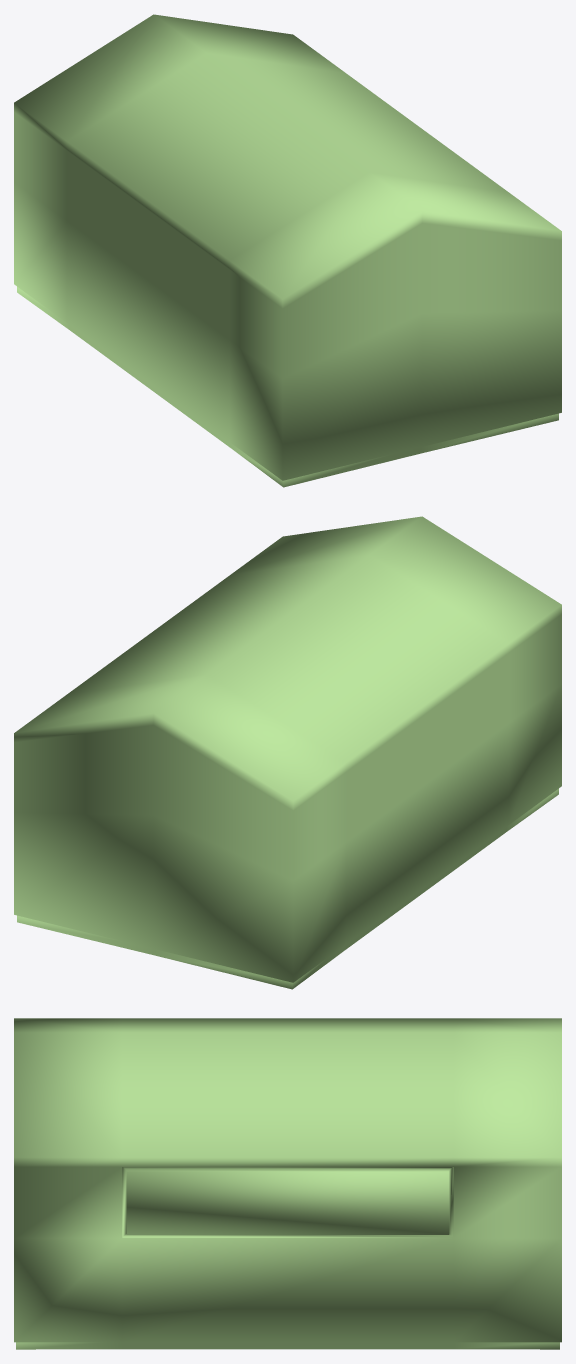
File: Warehouse.obj
The picture shows the model from 3 angles, top to bottom: view 1: azimuth 30°, elevation 25°; view 2: azimuth 150°, elevation 25°; view 3: azimuth 270°, elevation 25°; orthographic projection.
Visible parts, largest first — view 1: Warehouse; view 2: Warehouse; view 3: Warehouse.
Part boxes in pixels (x1=…): Warehouse: x1=14, y1=14, x2=561, y2=487; Warehouse: x1=14, y1=516, x2=561, y2=989; Warehouse: x1=14, y1=1018, x2=561, y2=1349.
Bounding box in the file's own units: 604 × 500 × 1000.
